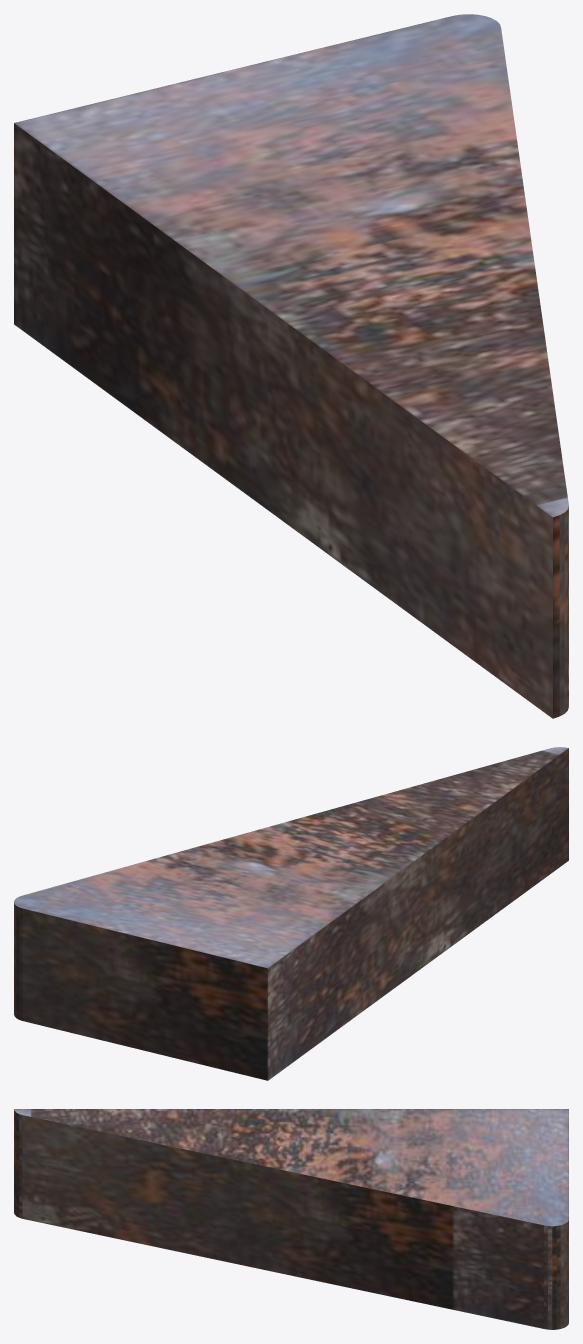
Rendered from half_triangle_copper.fbx.
3 views of the same model, one above another, from view 1: azimuth 30°, elevation 25°; view 2: azimuth 150°, elevation 25°; view 3: azimuth 270°, elevation 25° (orthographic). The views are drawn at different scales.
Visible parts, largest first — view 1: Model; view 2: Model; view 3: Model.
Part boxes in pixels (<box>): Model: <box>14,14,568,718</box>; Model: <box>14,747,568,1080</box>; Model: <box>14,1109,568,1329</box>.
Bounding box in the file's own units: 2.42 × 1 × 4.85.
